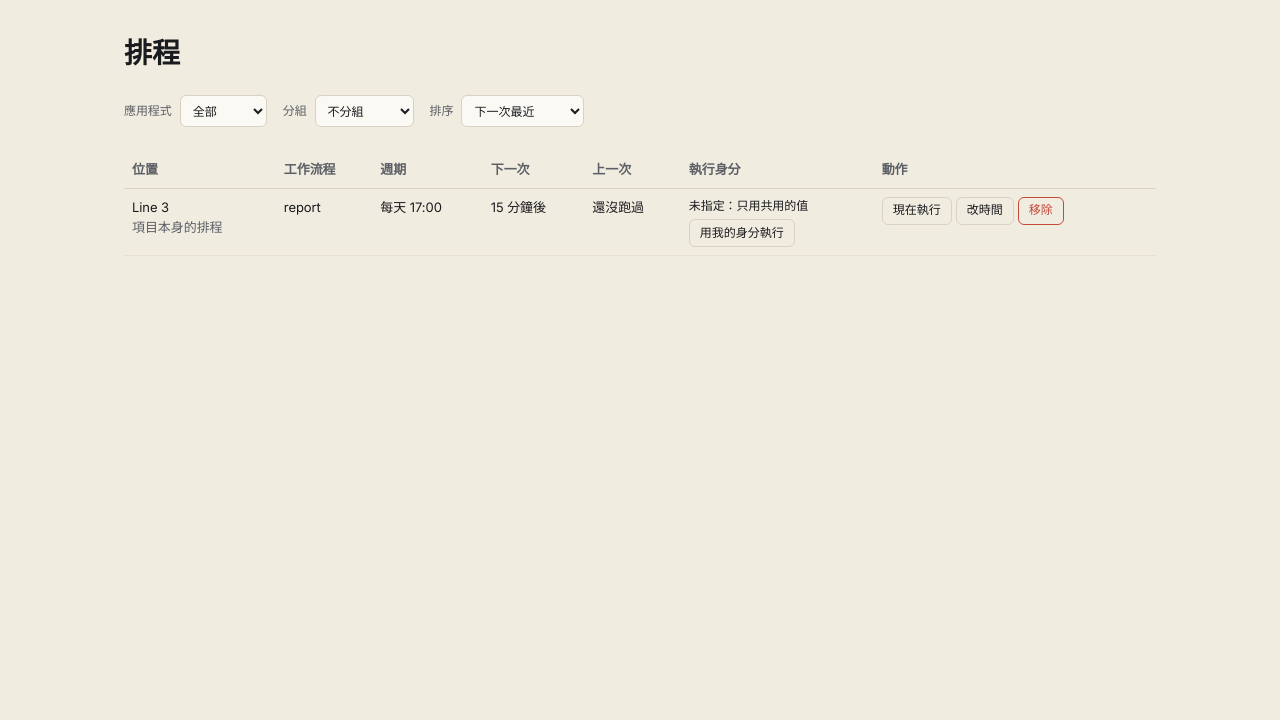
Test case: SchedulesOverviewPage › keeps the edit open with the server's reason when the new time is refused
The width and height of the screenshot is (1280, 720).
Click the button "改時間": {"x": 985, "y": 210} top-left (956, 196), bottom-right (1014, 224)
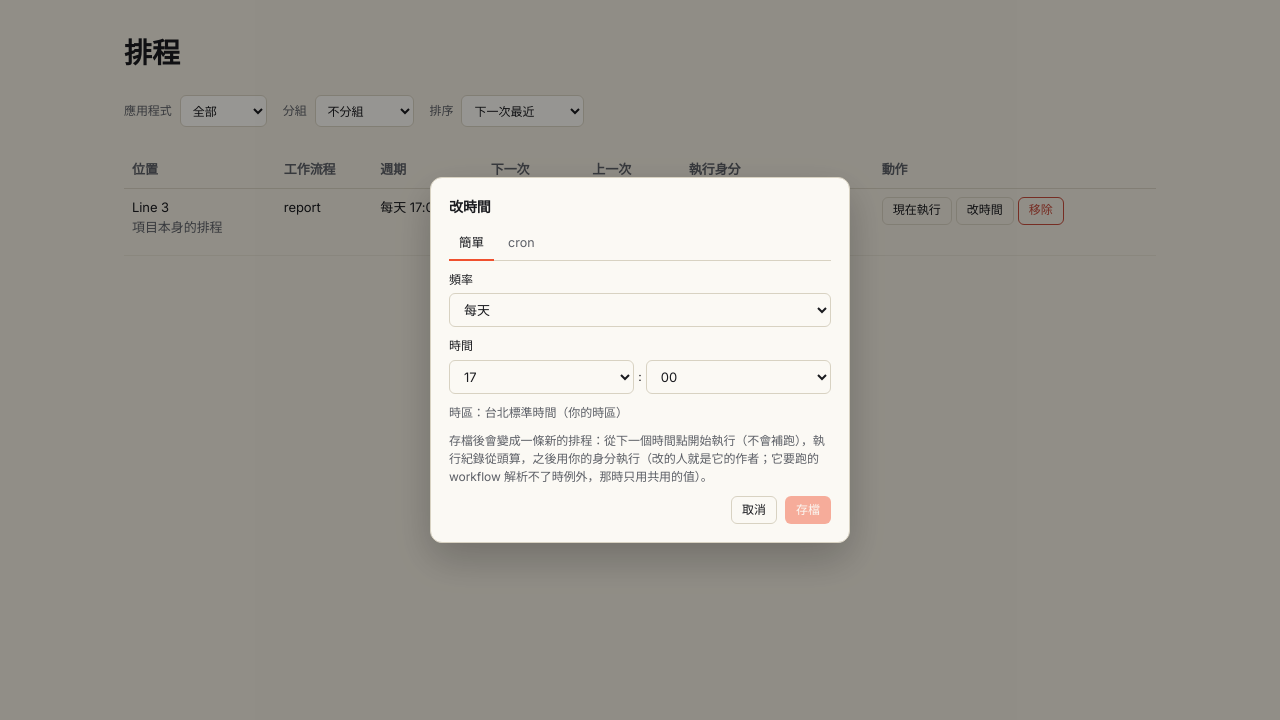
Select "10" in the dropdown named "時": {"x": 542, "y": 377} top-left (449, 360), bottom-right (634, 394)
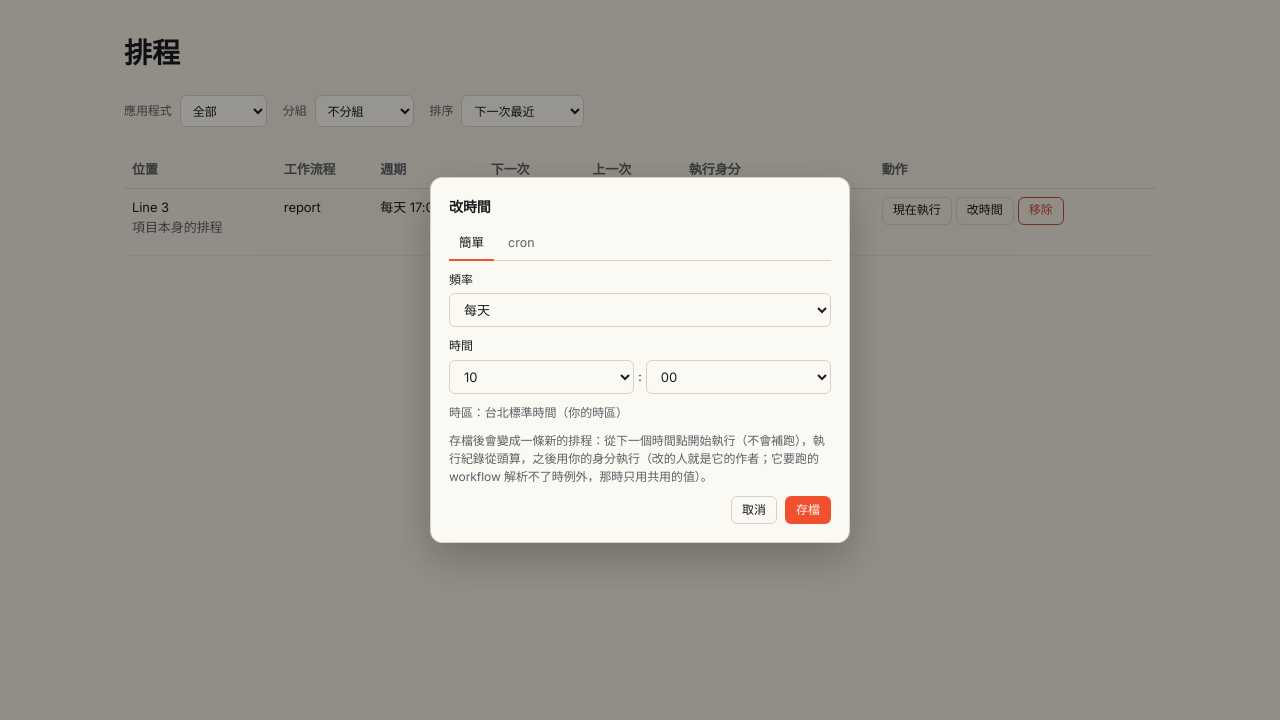
Select "30" in the dropdown named "分": {"x": 738, "y": 377} top-left (646, 360), bottom-right (831, 394)
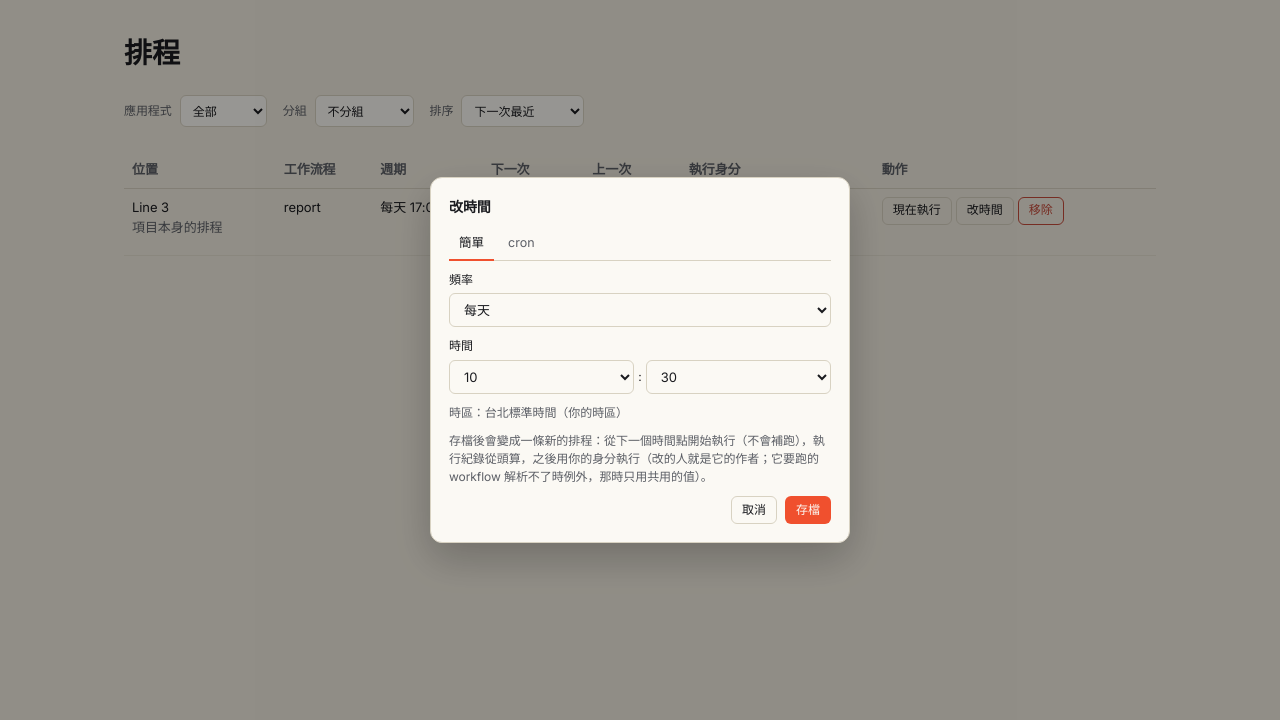
Click the button with test id "schedule-time-save": {"x": 808, "y": 510} top-left (785, 496), bottom-right (831, 524)
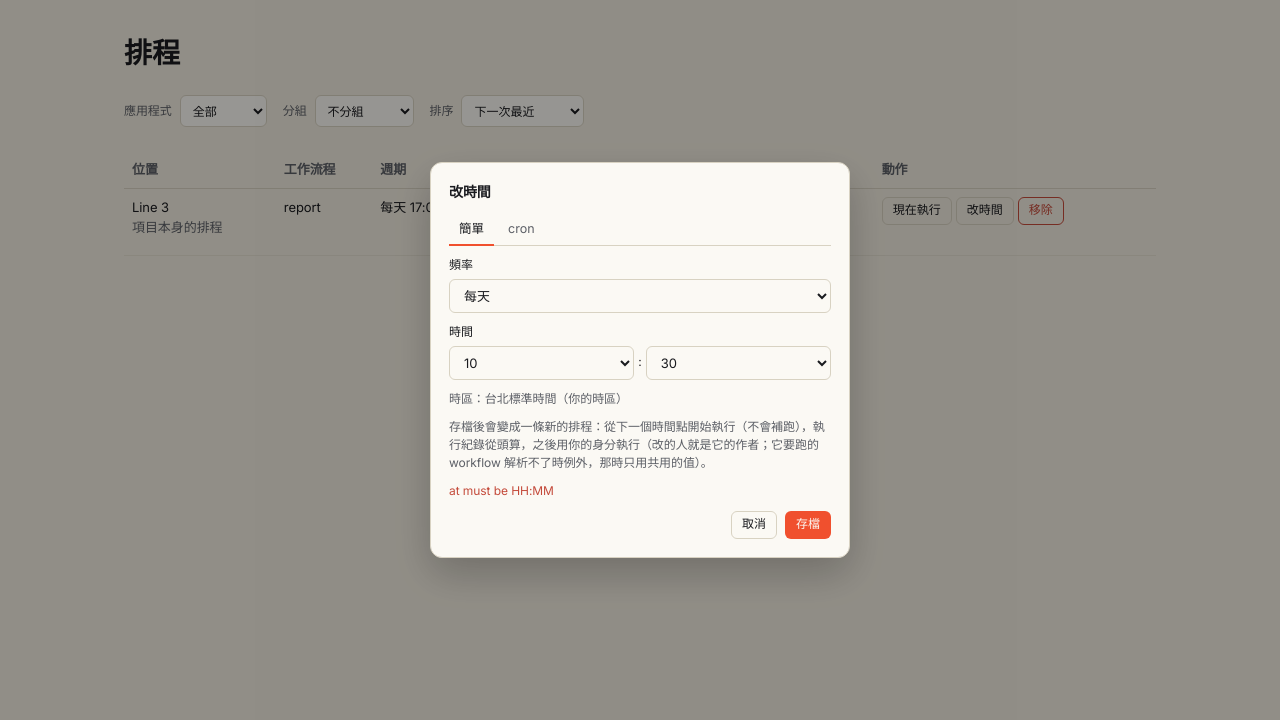
Result: the message with test id "schedule-time-error" reads "at must be HH:MM" at top-left (449, 483), bottom-right (554, 498)
